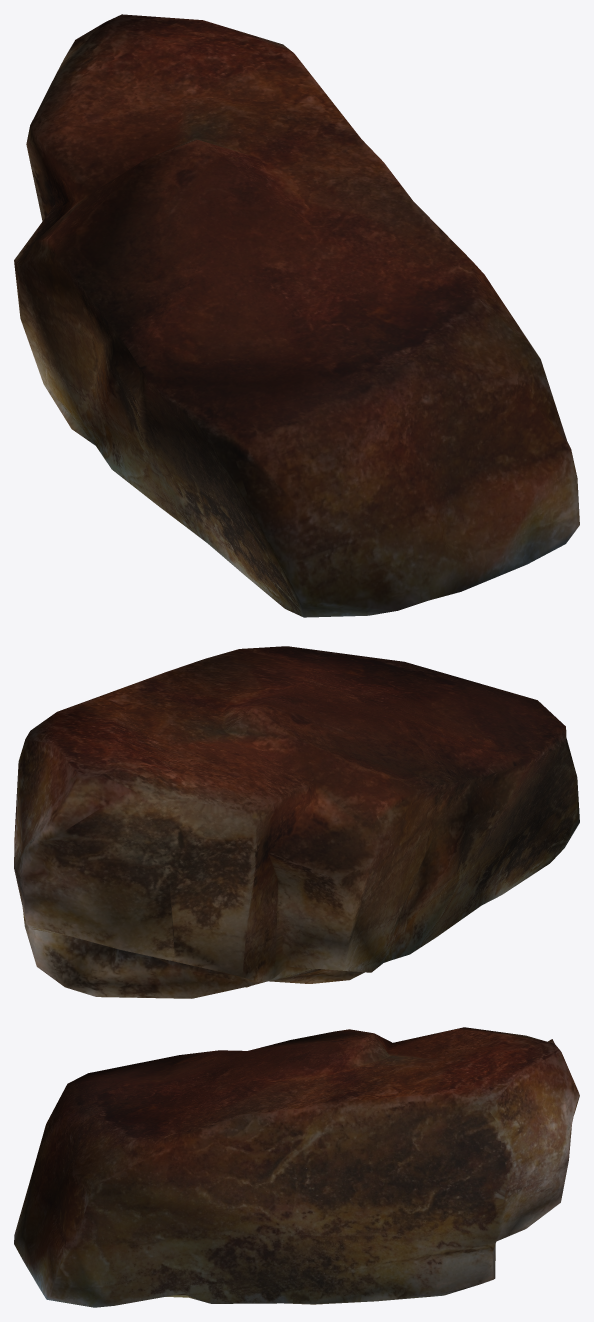
The model's file is rock_07-lod.glb.
The picture shows the model from 3 angles, top to bottom: view 1: azimuth 30°, elevation 25°; view 2: azimuth 150°, elevation 25°; view 3: azimuth 270°, elevation 25°; orthographic projection. The views are drawn at different scales.
Parts seen in each view (by area): view 1: rock_07; view 2: rock_07; view 3: rock_07.
Boxes of the visible parts, x1=… form: rock_07: x1=14, y1=14, x2=579, y2=617; rock_07: x1=14, y1=646, x2=579, y2=998; rock_07: x1=14, y1=1027, x2=579, y2=1307.
Size of the model in its own units: 0.1667 by 0.1409 by 0.3194.
Materials: 1 (1 with a texture image).
